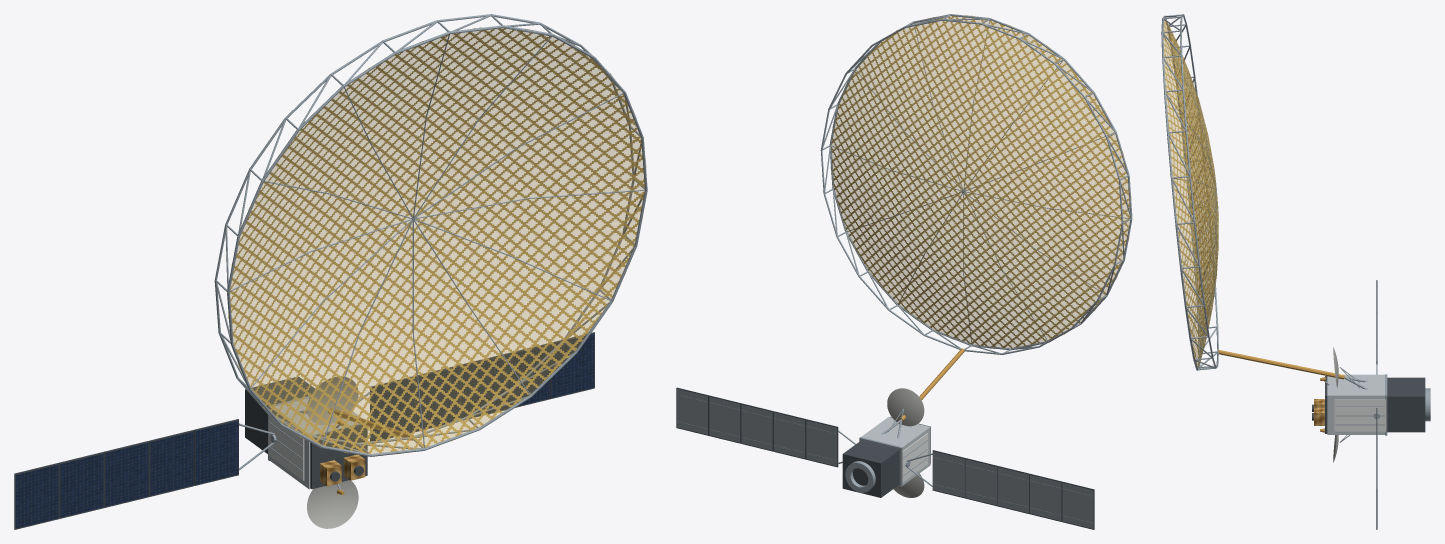
File: lm2100-jcsat17.glb
3 renders of one model, left to right at view 1: azimuth 30°, elevation 25°; view 2: azimuth 150°, elevation 25°; view 3: azimuth 270°, elevation 25°, orthographic. The views are drawn at different scales.
Visible parts, largest first — view 1: Deployable mesh reflector, Solar cell panel (×10), Communications reflector (×2), Service module, Earth-facing deck, Radiator face, Payload module; view 2: Deployable mesh reflector, Rear array substrate (×10), Service module, Payload module, Communications reflector, Radiator face, Launch adapter ring; view 3: Deployable mesh reflector, Service module, Payload module, Radiator face, Reflector deployment boom.
Part boxes in pixels (bbox=[...]): Deployable mesh reflector: bbox=[228, 27, 646, 454]; Solar cell panel (×10): bbox=[15, 334, 594, 528]; Communications reflector (×2): bbox=[307, 377, 358, 528]; Service module: bbox=[245, 376, 314, 453]; Earth-facing deck: bbox=[310, 424, 367, 489]; Radiator face: bbox=[268, 415, 304, 480]; Payload module: bbox=[270, 398, 361, 489]; Deployable mesh reflector: bbox=[830, 15, 1131, 348]; Rear array substrate (×10): bbox=[677, 389, 1093, 528]; Service module: bbox=[842, 440, 899, 497]; Payload module: bbox=[861, 417, 930, 485]; Communications reflector: bbox=[887, 388, 924, 426]; Radiator face: bbox=[902, 433, 927, 482]; Launch adapter ring: bbox=[845, 461, 875, 492]; Deployable mesh reflector: bbox=[1162, 19, 1218, 368]; Service module: bbox=[1387, 377, 1425, 432]; Payload module: bbox=[1327, 374, 1384, 434]; Radiator face: bbox=[1334, 399, 1385, 431]; Reflector deployment boom: bbox=[1218, 350, 1344, 379].
Bounding box in the file's own units: 24.98 × 24.01 × 13.6.
Materials: 10 (3 with a texture image).
